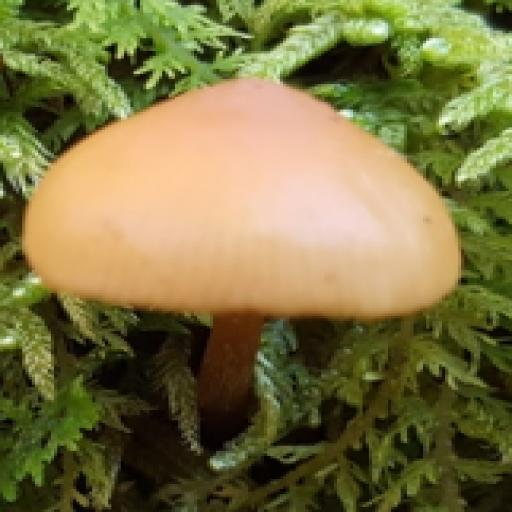mushroom: (18, 75, 465, 425)
